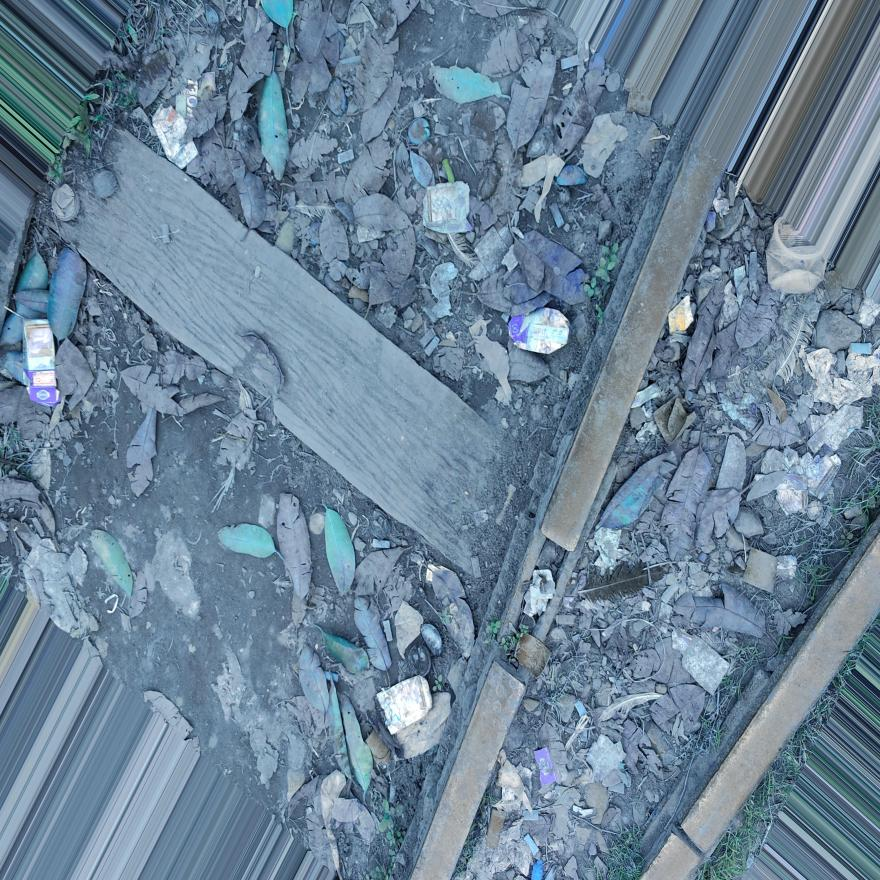railway-gap: (468, 460, 600, 742), (655, 792, 727, 880)
